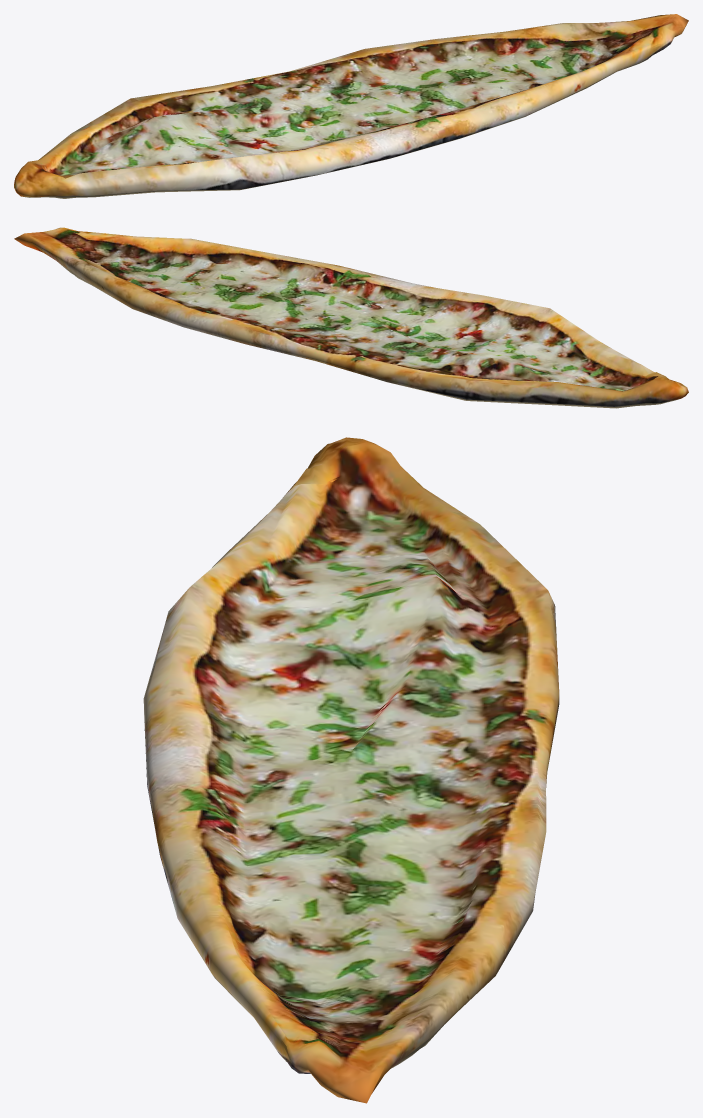
Rendered from Pide and Meat Bread.glb.
The picture shows the model from 3 angles, top to bottom: view 1: azimuth 30°, elevation 25°; view 2: azimuth 150°, elevation 25°; view 3: azimuth 270°, elevation 25°; orthographic projection. The views are drawn at different scales.
Visible parts, largest first — view 1: pPlane1; view 2: pPlane1; view 3: pPlane1.
Boxes of the visible parts, x1=… form: pPlane1: x1=14, y1=14, x2=688, y2=198; pPlane1: x1=14, y1=227, x2=688, y2=408; pPlane1: x1=143, y1=437, x2=559, y2=1103.
Bounding box in the file's own units: 2.17 × 0.0966 × 0.5861.
Materials: 2 (1 with a texture image).
